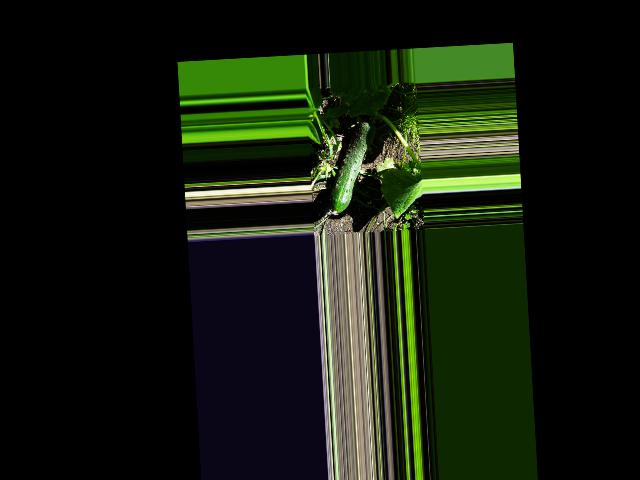cucumber: (325, 119, 381, 214)
